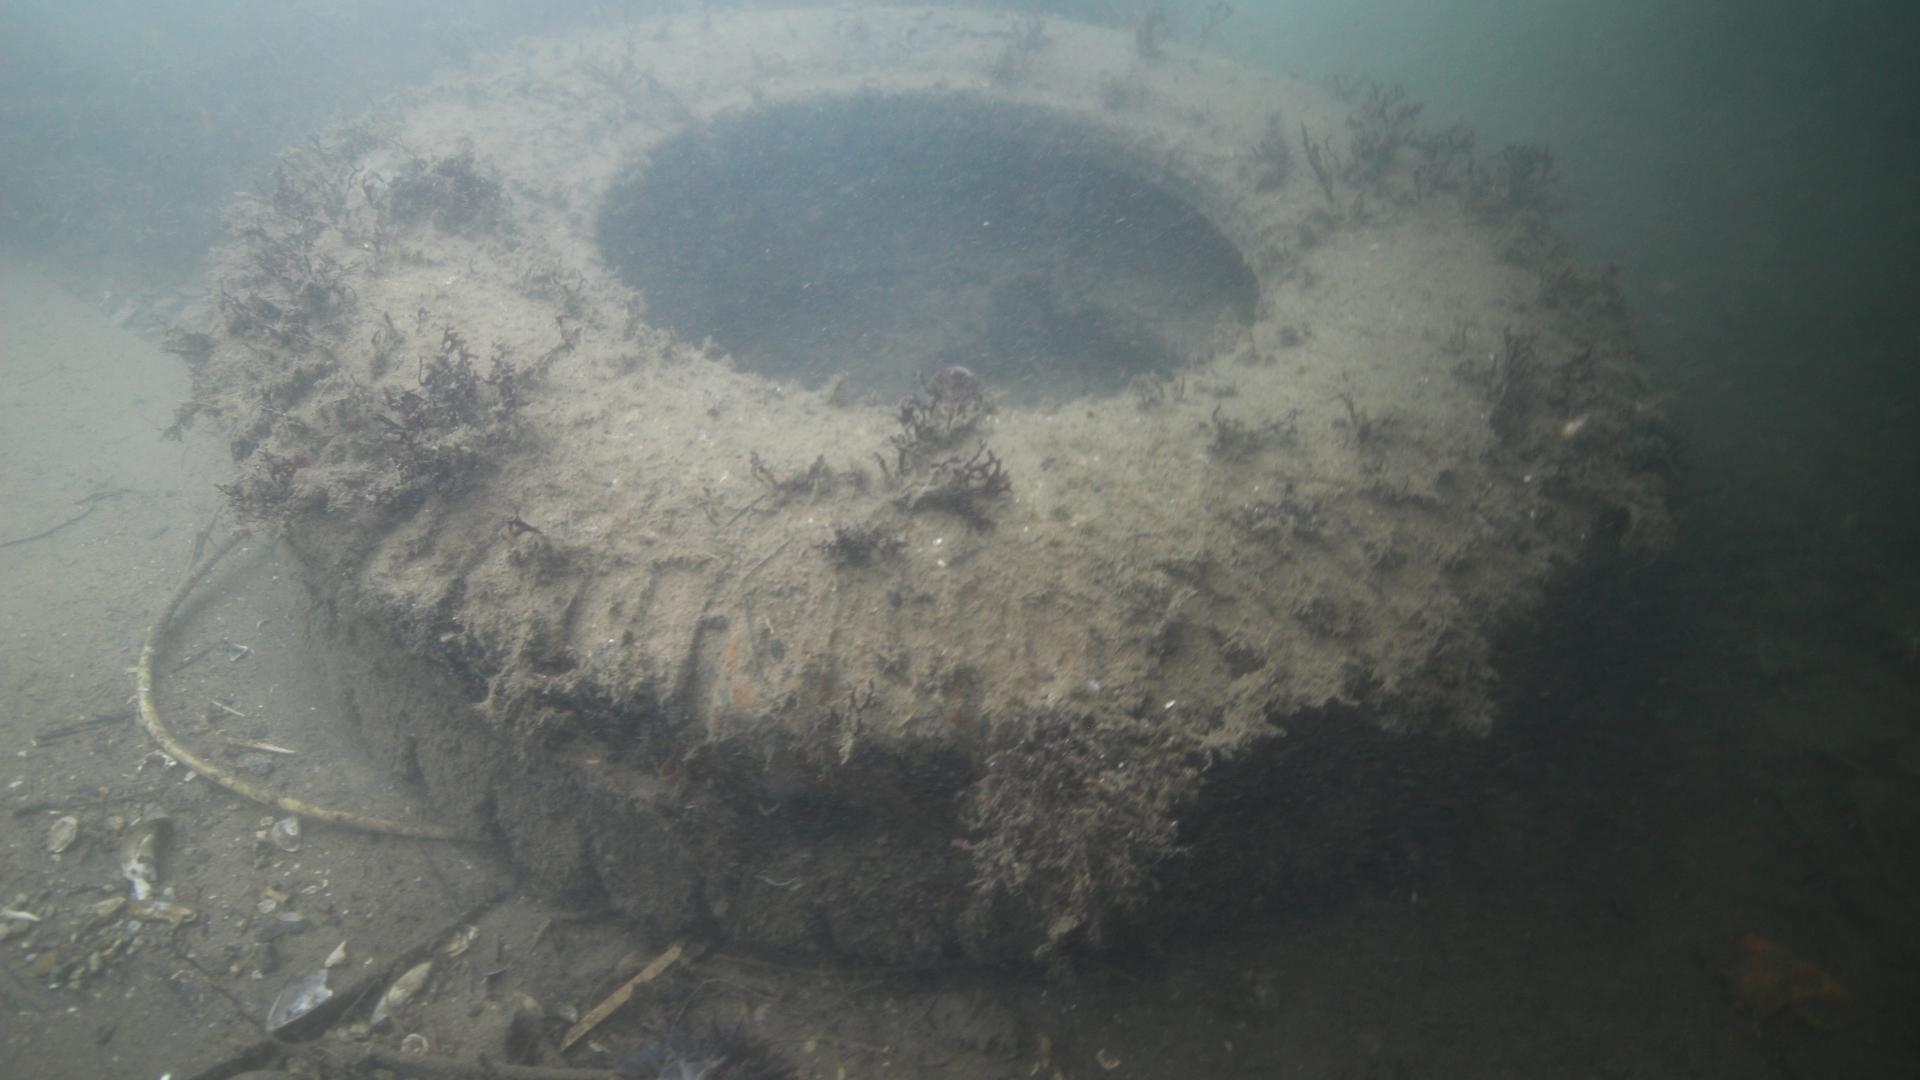tire: (189, 0, 1672, 967)
